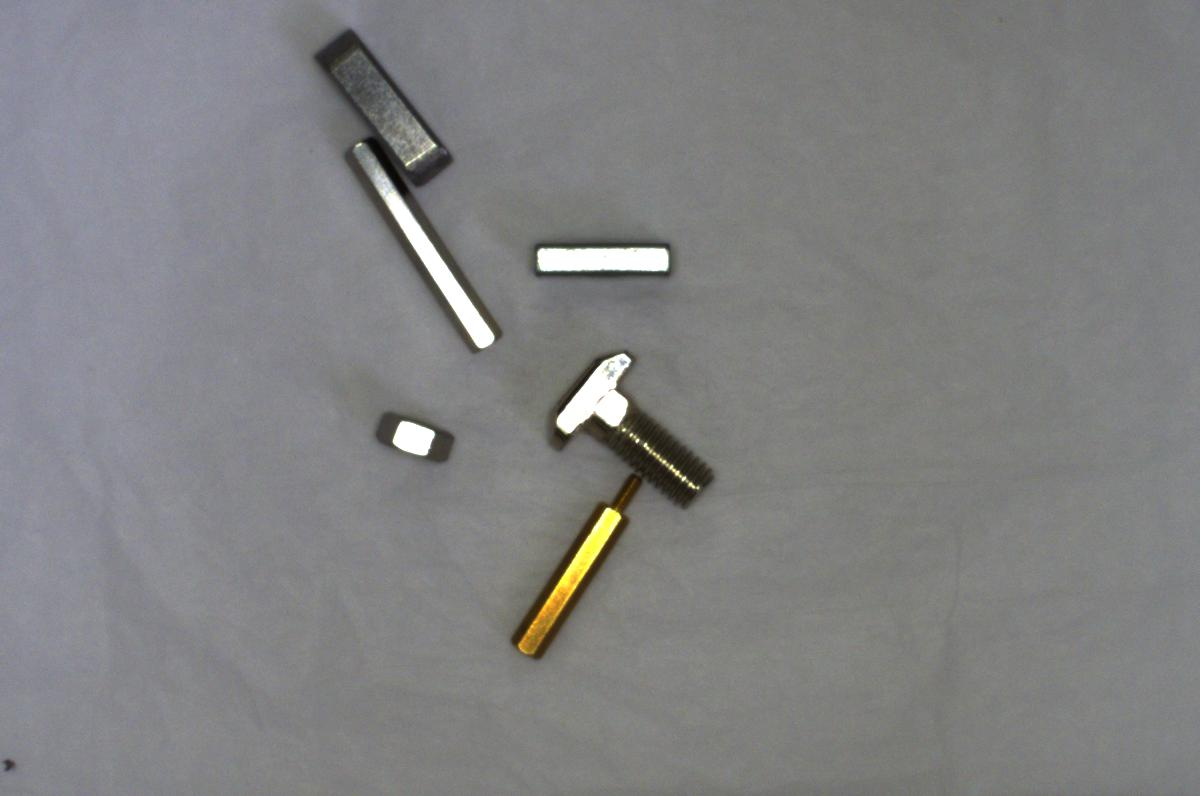Double hexagonal column: (340, 127, 501, 350)
Hexagon nut: (364, 401, 466, 470)
Hexagon pillar: (495, 467, 650, 661)
Keybar: (314, 18, 457, 185)
Rectangular nut: (521, 230, 679, 286)
T-shaped screw: (542, 343, 724, 500)
